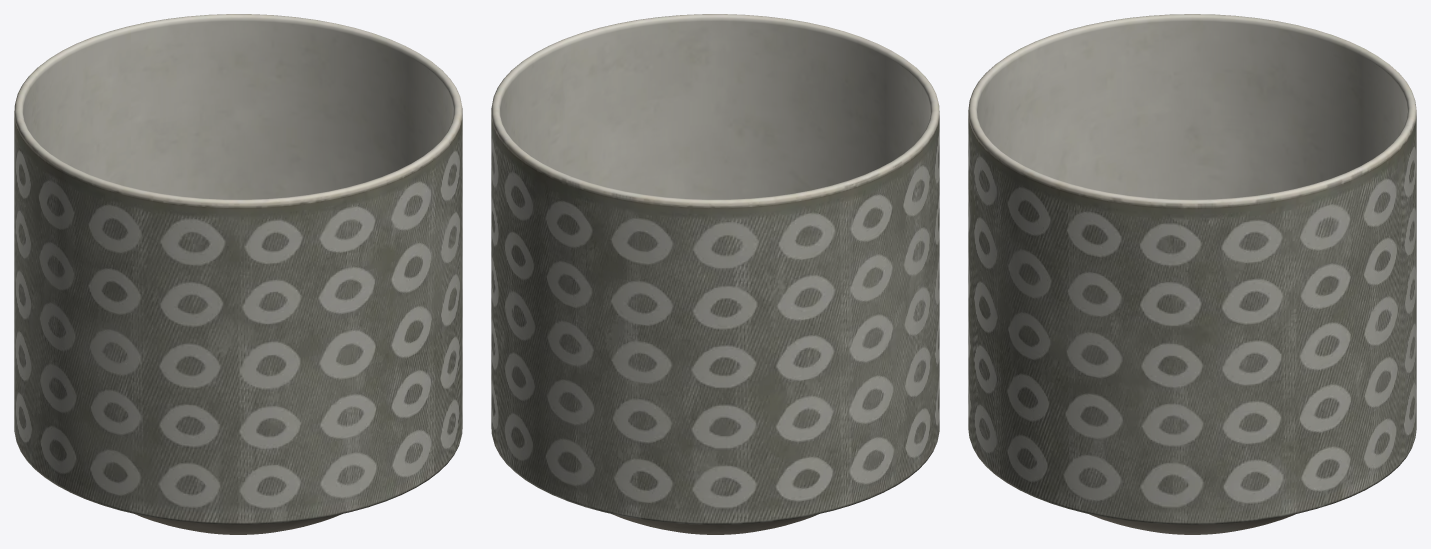
File: abo-B07QFB5H65.glb
The picture shows the model from 3 angles, left to right: view 1: azimuth 30°, elevation 25°; view 2: azimuth 150°, elevation 25°; view 3: azimuth 270°, elevation 25°; orthographic projection.
Size of the model in its own units: 0.19 by 0.181 by 0.19.
Materials: 1 (1 with a texture image).
